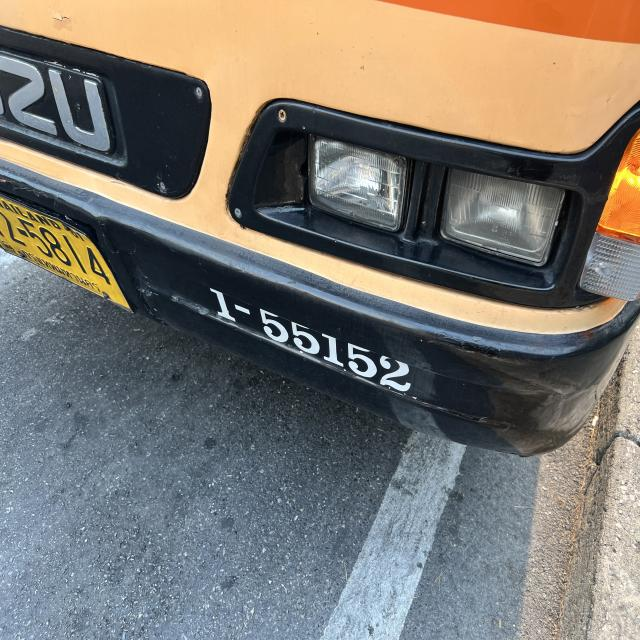BMTA-bus: (0, 0, 640, 460)
